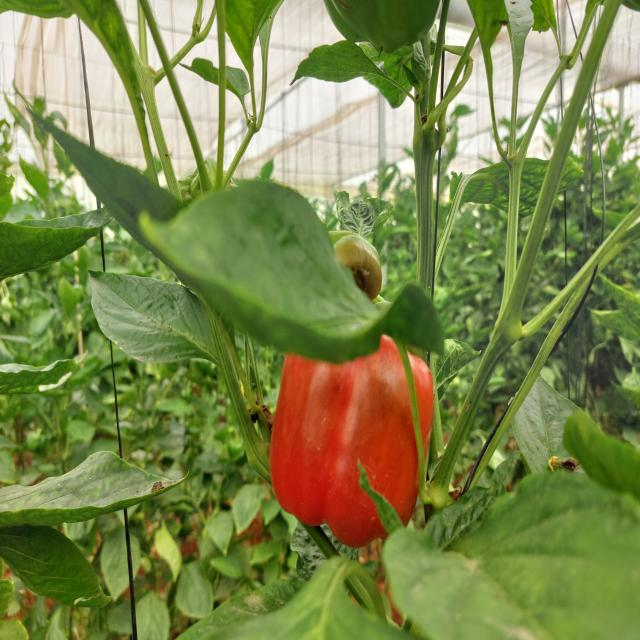Red-Ready-to-Harvest: (271, 302, 434, 547)
